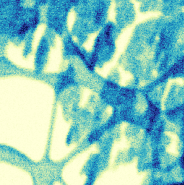hole_empty: (0, 66, 54, 165), (0, 151, 39, 185)
hole_filled: (61, 6, 184, 86), (57, 116, 161, 185), (51, 83, 115, 161), (4, 20, 70, 75)
